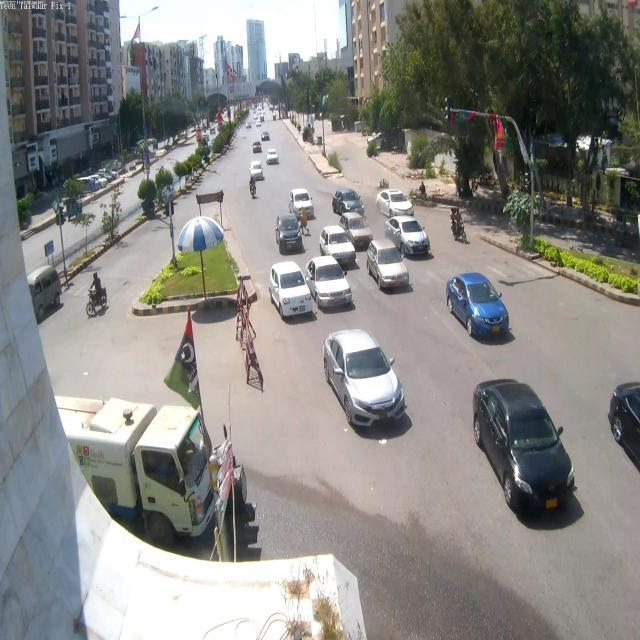car: (472, 376, 577, 526), (321, 328, 413, 441), (445, 271, 512, 341), (269, 259, 317, 325), (305, 256, 354, 312), (366, 240, 414, 293), (385, 215, 432, 258), (325, 215, 369, 259), (318, 225, 358, 271), (275, 213, 306, 254), (338, 213, 373, 248), (377, 188, 415, 218), (287, 188, 314, 223), (331, 189, 364, 215), (250, 162, 266, 180), (264, 150, 280, 166), (251, 141, 261, 152)
motorbike: (81, 268, 110, 320), (447, 205, 471, 248), (249, 174, 257, 200)
truck: (70, 397, 227, 544)
